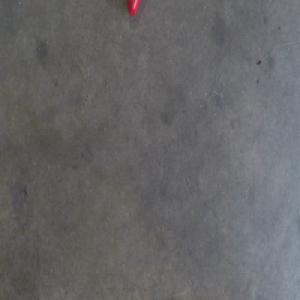Pliers: (126, 0, 141, 16)
